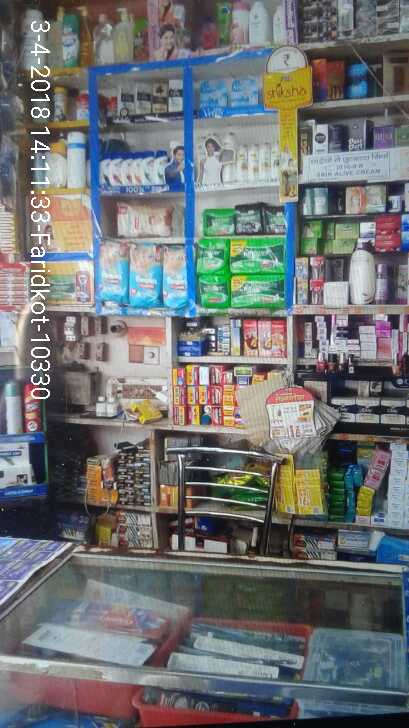venus: (200, 79, 226, 109), (232, 78, 259, 104)
